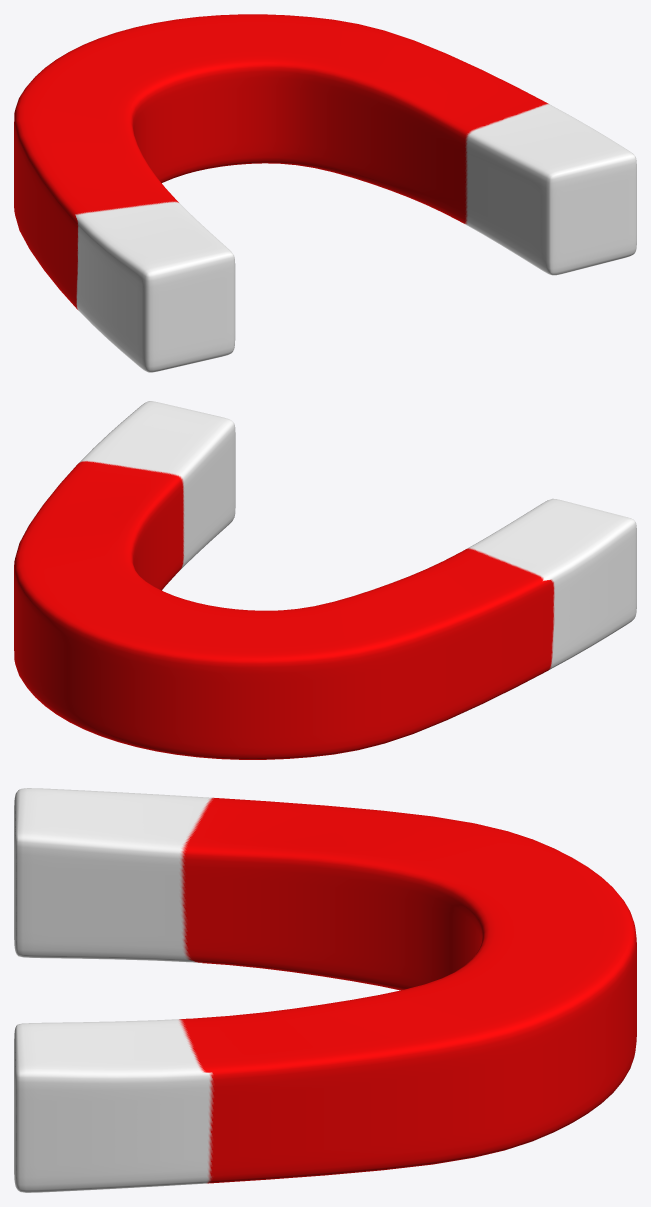
File: magnet.fbx
3 views of the same model, one above another, from view 1: azimuth 30°, elevation 25°; view 2: azimuth 150°, elevation 25°; view 3: azimuth 270°, elevation 25° (orthographic). The views are drawn at different scales.
Visible parts, largest first — view 1: pPipe1; view 2: pPipe1; view 3: pPipe1.
Part boxes in pixels (bbox=[...]): pPipe1: bbox=[14, 14, 636, 372]; pPipe1: bbox=[14, 401, 636, 759]; pPipe1: bbox=[14, 788, 636, 1192].
Size of the model in its own units: 7.79 by 1.57 by 7.12.
1 material, 1 textured.
